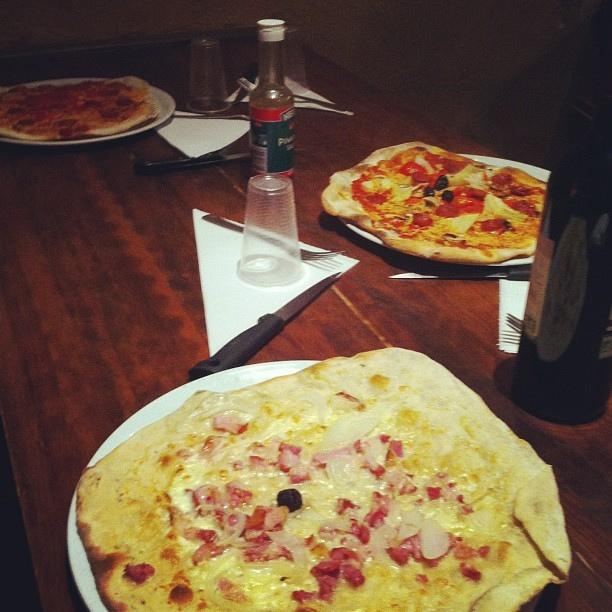onion: (328, 412, 383, 450), (265, 530, 307, 566), (418, 518, 452, 560), (324, 452, 360, 490), (215, 512, 246, 546), (362, 436, 391, 470), (396, 509, 424, 541), (214, 415, 248, 435), (262, 506, 290, 530), (295, 394, 322, 416), (368, 530, 390, 550), (424, 478, 447, 488)
tomato: (451, 195, 484, 214), (452, 186, 489, 202), (394, 162, 428, 177), (428, 170, 448, 189), (412, 212, 434, 226), (411, 171, 432, 183), (503, 199, 516, 207), (425, 154, 442, 160), (526, 200, 540, 204)
